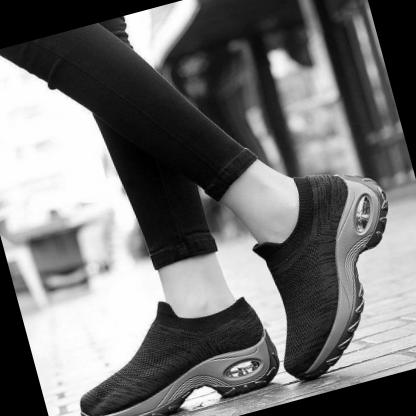ankle: (299, 220, 306, 227), (209, 317, 215, 323)
heel: (337, 177, 346, 185), (258, 331, 265, 336)
left_foot: (62, 288, 287, 416)
pinky: (314, 348, 321, 355), (86, 393, 91, 398)
right_foot: (238, 159, 416, 388)
toe: (285, 358, 293, 367), (105, 411, 111, 416)
